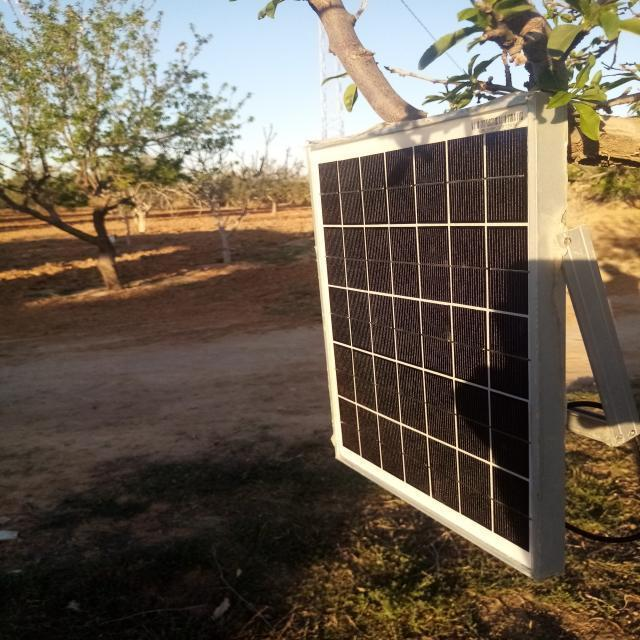Normal Solar Panel: (308, 96, 536, 579)
